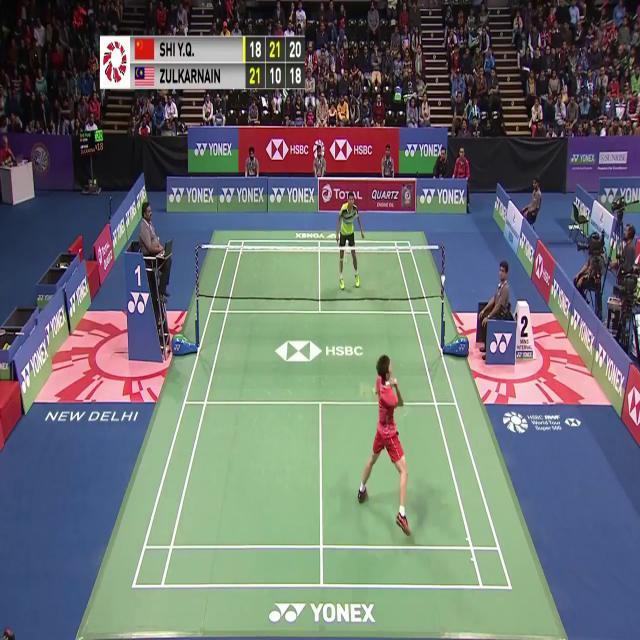Shuttlecock: (439, 277, 446, 288)
